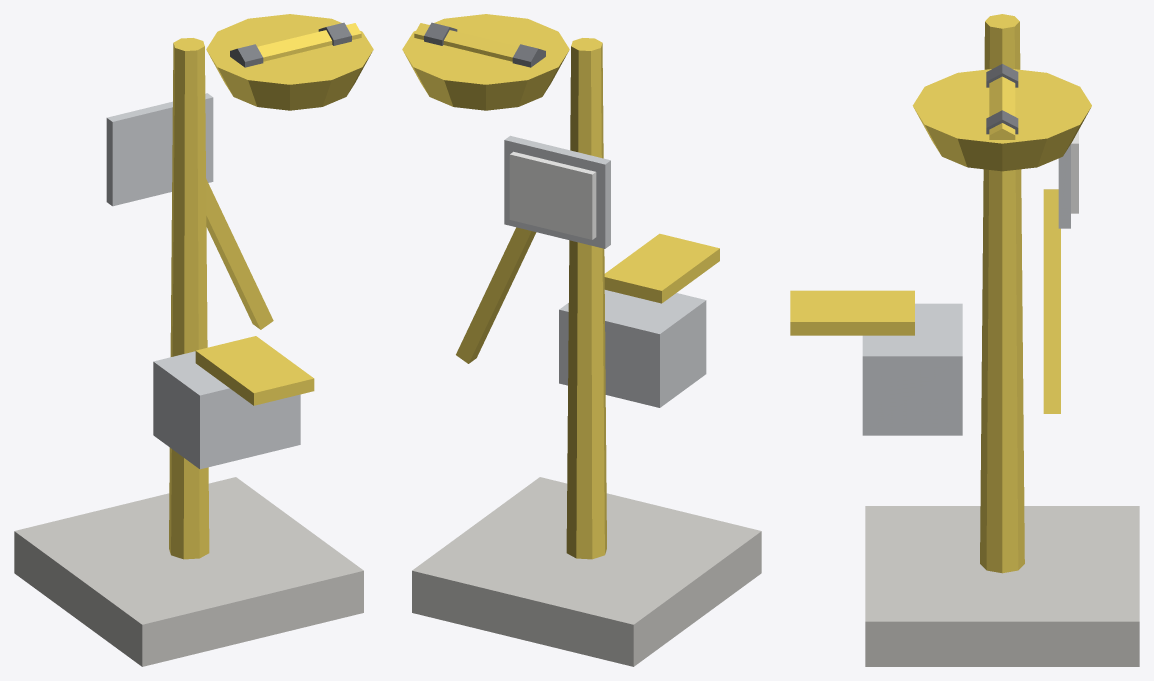
Rendered from rocket-launch-pad-and-gantry-safety-shower-d86d71c8__38168.glb.
3 views of the same model, side by side, from view 1: azimuth 30°, elevation 25°; view 2: azimuth 150°, elevation 25°; view 3: azimuth 270°, elevation 25° (orthographic). The views are drawn at different scales.
Visible parts, largest first — view 1: safety-shower; view 2: safety-shower; view 3: safety-shower.
Part boxes in pixels (left/top/right/bottom): safety-shower: left=14, top=14, right=373, bottom=666; safety-shower: left=402, top=14, right=761, bottom=666; safety-shower: left=790, top=14, right=1139, bottom=666.
Size of the model in its own units: 1.41 by 2.6 by 1.4.
